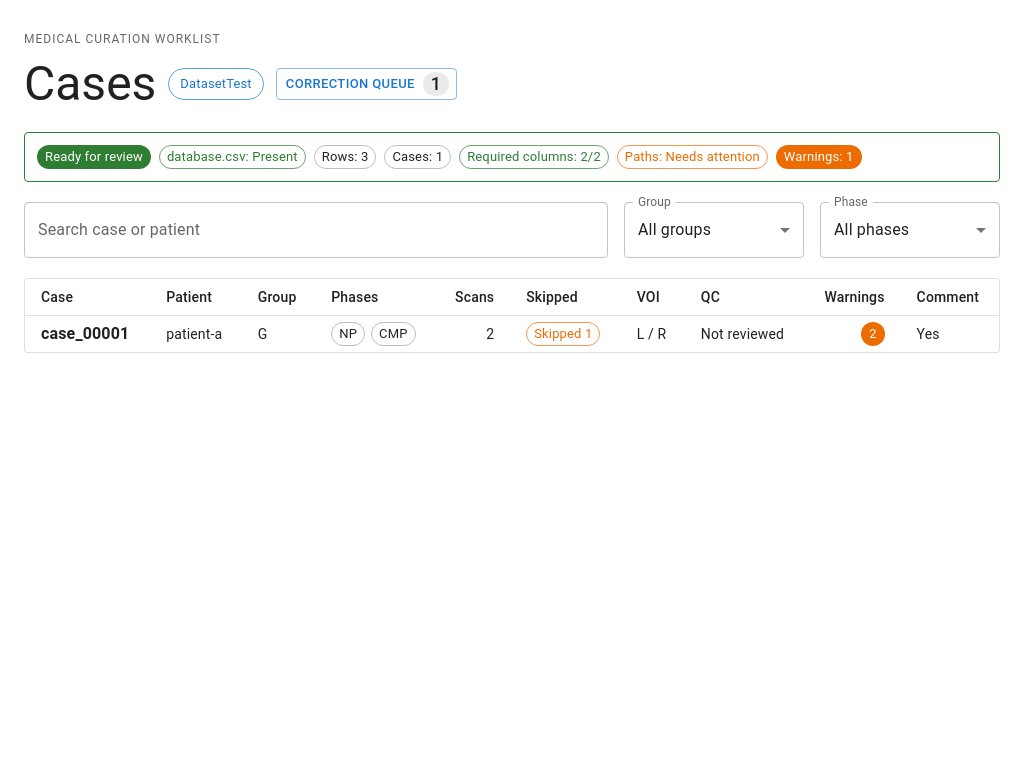
Scenario: v2 medical curation UI › opens correction queue and exposes CSV export
Click the button "Correction Queue 1" at point(367, 84), box [276,68,457,100]
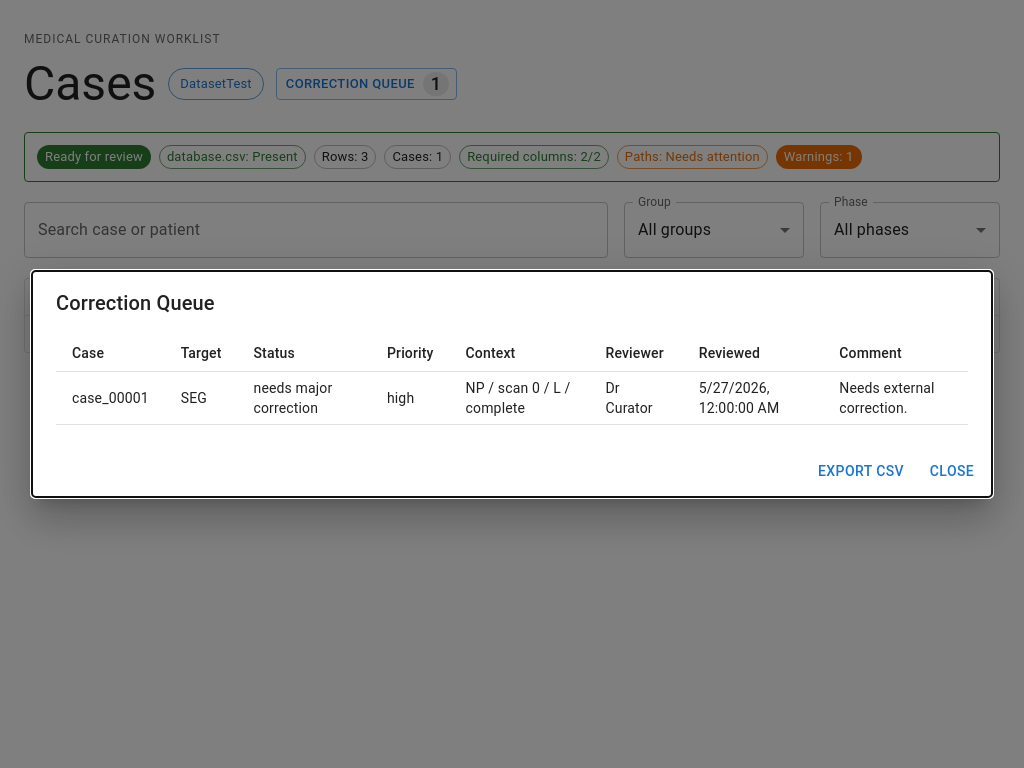
Expected: the heading "Correction Queue" is shown, [56,291,215,315]
Expected: the text "Needs external correction." is shown, [839,380,935,416]
